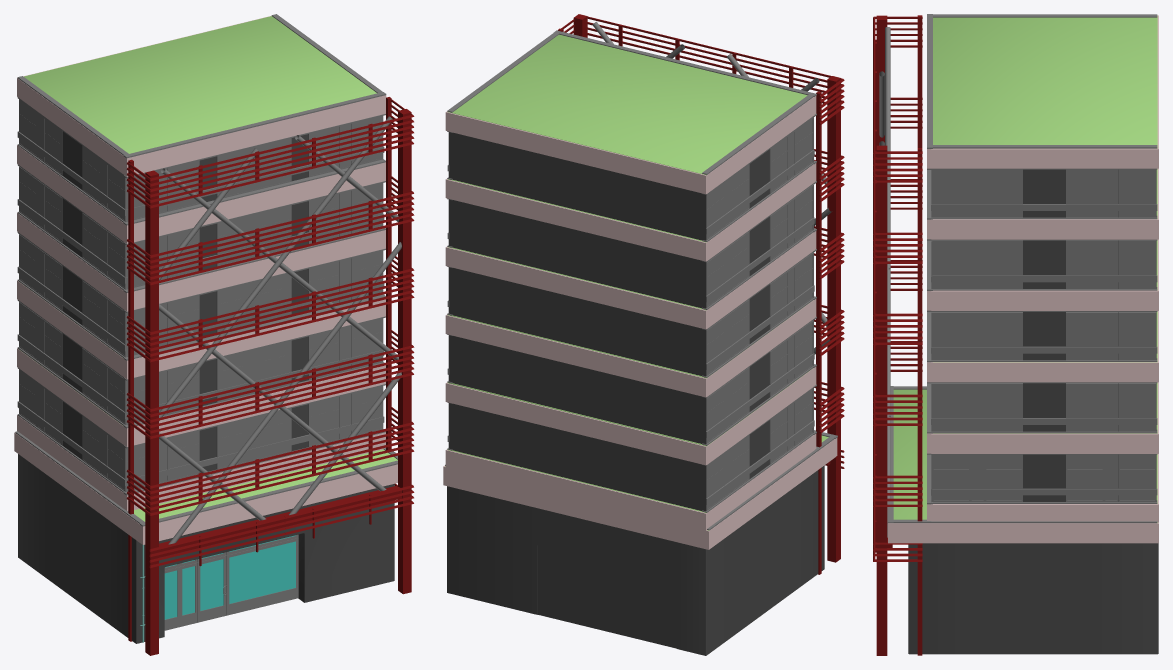
File: SM_building_standard_07.fbx
3 views of the same model, side by side, from view 1: azimuth 30°, elevation 25°; view 2: azimuth 150°, elevation 25°; view 3: azimuth 270°, elevation 25° (orthographic). The views are drawn at different scales.
Parts seen in each view (by area): view 1: Object1284661; view 2: Object1284661; view 3: Object1284661.
Part boxes in pixels (x1,y1,x2,y2): Object1284661: [14, 14, 414, 655]; Object1284661: [443, 14, 844, 655]; Object1284661: [873, 14, 1158, 655].
Size of the model in its own units: 444 by 771 by 394.
